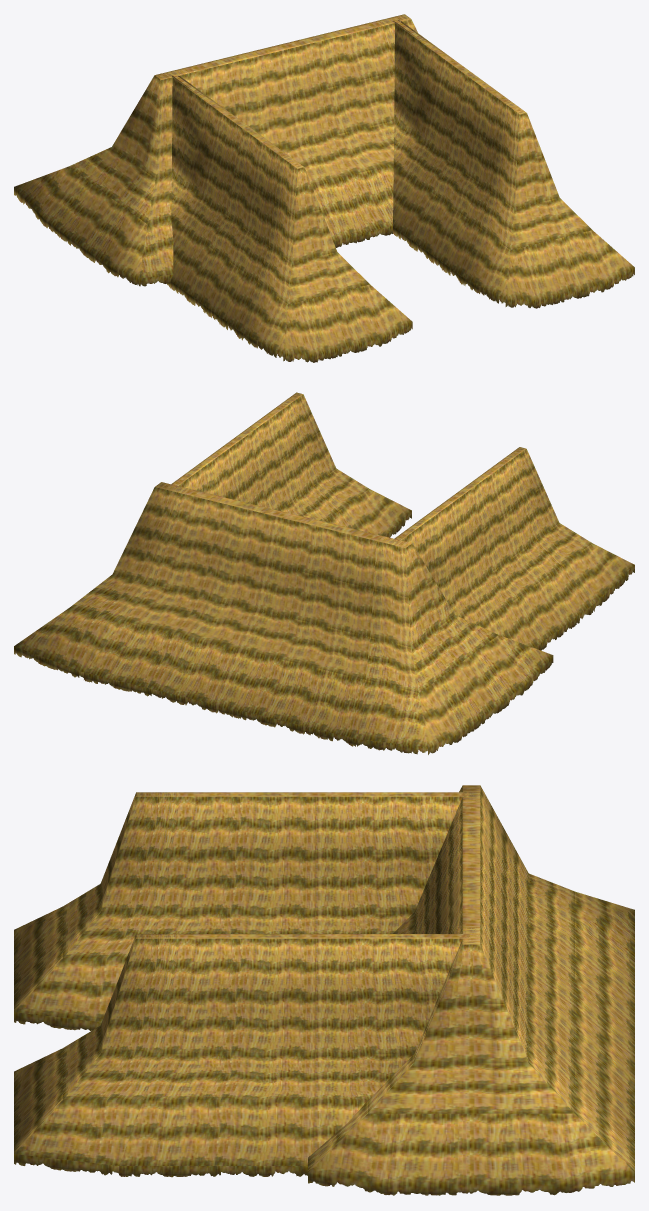
Rendered from roof_barracks.dae.
The picture shows the model from 3 angles, top to bottom: view 1: azimuth 30°, elevation 25°; view 2: azimuth 150°, elevation 25°; view 3: azimuth 270°, elevation 25°; orthographic projection. The views are drawn at different scales.
Visible parts, largest first — view 1: barracks.001; view 2: barracks.001; view 3: barracks.001.
Part boxes in pixels (x1,y1,x2,y2): barracks.001: (14, 14, 634, 362); barracks.001: (14, 392, 634, 754); barracks.001: (14, 785, 634, 1195).
Size of the model in its own units: 18.74 by 18.72 by 6.67.
